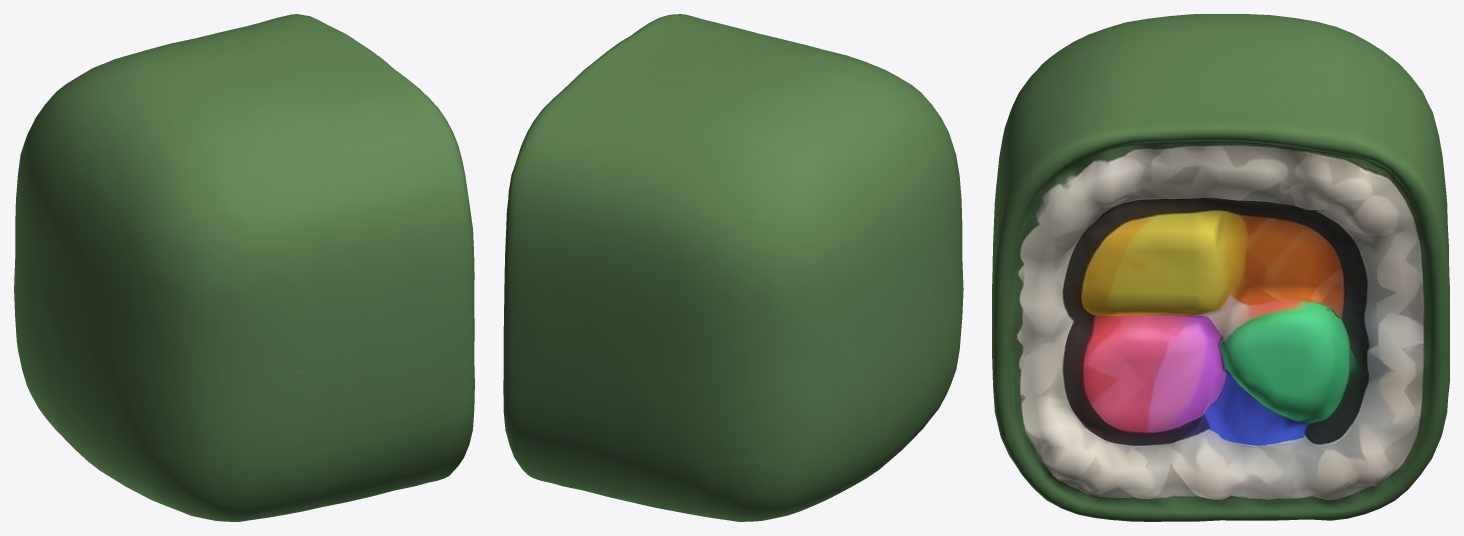
The model's file is maki.glb.
3 views of the same model, side by side, from view 1: azimuth 30°, elevation 25°; view 2: azimuth 150°, elevation 25°; view 3: azimuth 270°, elevation 25° (orthographic). The views are drawn at different scales.
Parts seen in each view (by area): view 1: tripo_node_88581f2a-e42e-4333-9735-6524ae084121; view 2: tripo_node_88581f2a-e42e-4333-9735-6524ae084121; view 3: tripo_node_88581f2a-e42e-4333-9735-6524ae084121.
Boxes of the visible parts, x1,y1,x2,y2 form: tripo_node_88581f2a-e42e-4333-9735-6524ae084121: [14, 14, 474, 521]; tripo_node_88581f2a-e42e-4333-9735-6524ae084121: [503, 14, 963, 521]; tripo_node_88581f2a-e42e-4333-9735-6524ae084121: [992, 14, 1449, 521].
Size of the model in its own units: 0.8145 by 0.9785 by 0.998.
Materials: 1 (1 with a texture image).
